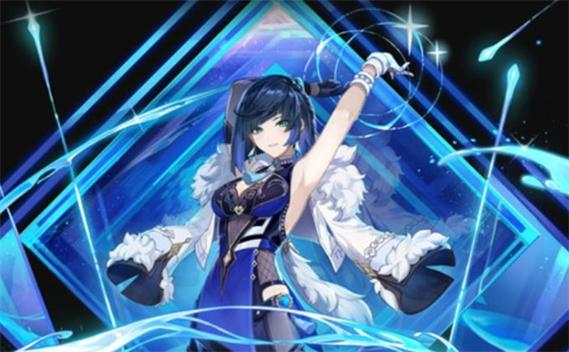夜兰: (190, 50, 412, 352)
